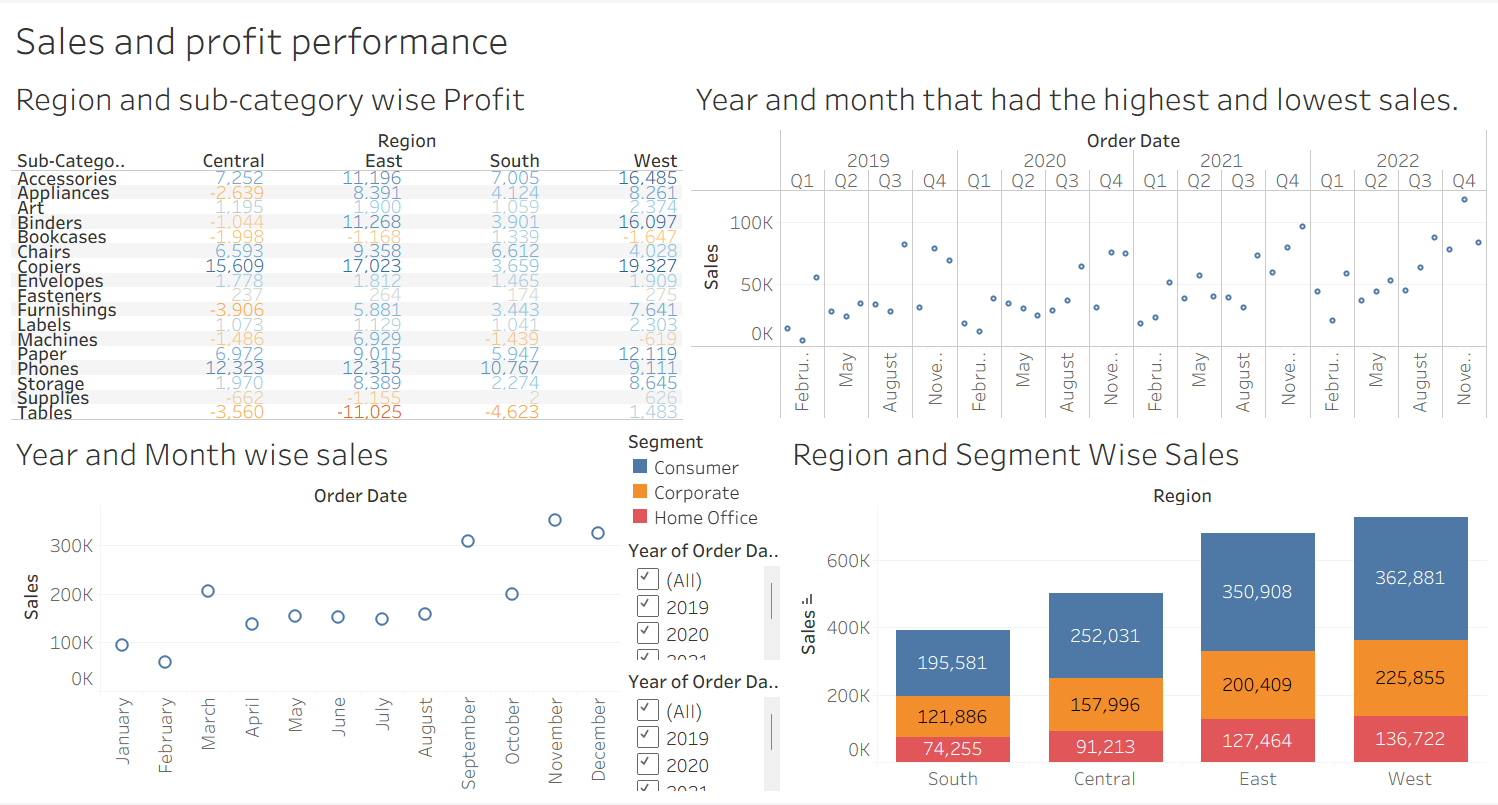

This screenshot's page, from the dashboard's own definition file:
{"tool":"tableau","page":{"name":"Sales and profit performance","canvas":[1000,800],"ordinal":1},"visuals":[{"type":"worksheet","title":"Region and sub-category wise Profit","mark":"Automatic","rows":["Sub-Category"],"cols":["Region"],"box":[8,8,984,392]},{"type":"worksheet","title":"Region and Segment Wise Sales","mark":"Automatic","rows":["Sales"],"cols":["Region"],"box":[8,400,332,392]},{"type":"legend","title":"Region and Segment Wise Sales","param":"[federated.15bfd971dbl1vt1822pdc125c6v2].[none:Segment:nk]","box":[340,400,160,109]},{"type":"worksheet","title":"Year and Month wise sales","mark":"Automatic","rows":["Sales"],"cols":["Order Date"],"box":[500,400,492,392]},{"type":"filter","title":"Year and Month wise sales","param":"[federated.15bfd971dbl1vt1822pdc125c6v2].[yr:Order Date:ok]","box":[340,509,160,175]}]}

Visuals, with their boxes on the page's 1000x800 design canvas (x1, y1, x2, y2). These are canvas units, not pixel positions in the 1498x805 screenshot, which may show the page scaled, cropped or inside an application window:
"Region and sub-category wise Profit" worksheet: (8, 8, 992, 400)
"Region and Segment Wise Sales" worksheet: (8, 400, 340, 792)
"Region and Segment Wise Sales" legend: (340, 400, 500, 509)
"Year and Month wise sales" worksheet: (500, 400, 992, 792)
"Year and Month wise sales" filter: (340, 509, 500, 684)
